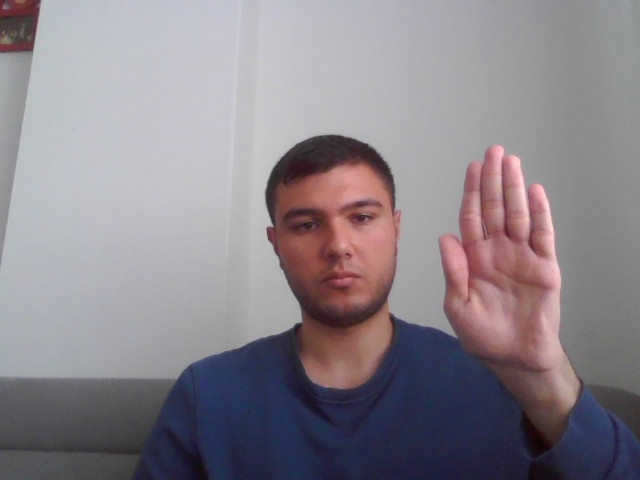Hello: (438, 145, 562, 371)
